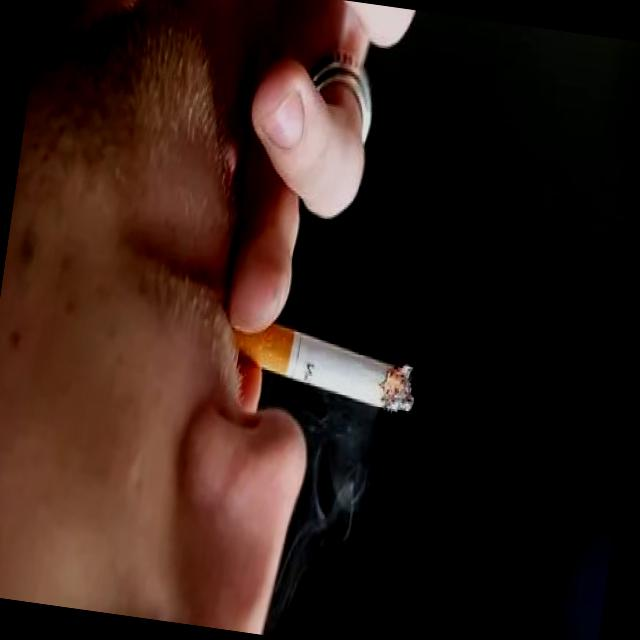cigarette: (214, 284, 430, 422)
